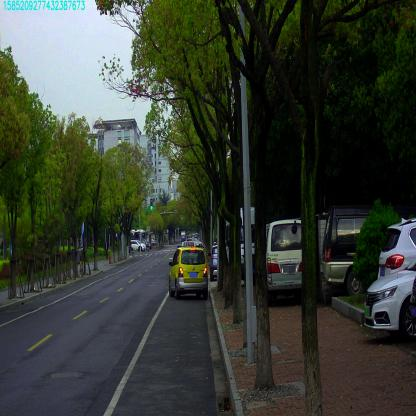traffic-light: (150, 198, 153, 210)
